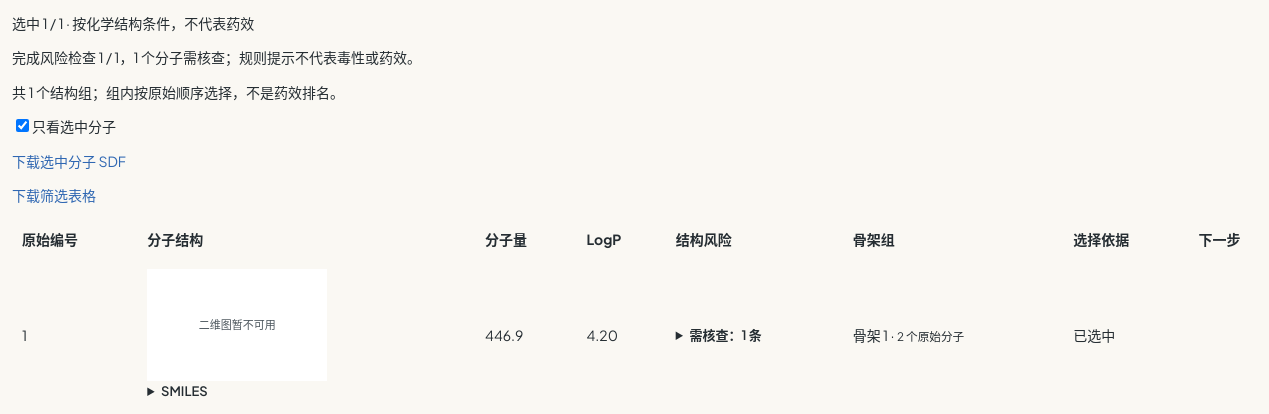
Test case: shows native matched rules and scaffold families without implying safety or activity rank
Expected: the message shows "1 个分子需核查", [12,48,421,66]
Expected: the text "共 1 个结构组；组内按原始顺序选择，不是药效排名。" is shown, [12,83,344,101]
Click the heading "需核查：1 条".
click(726, 335)  # box [689,327,762,343]
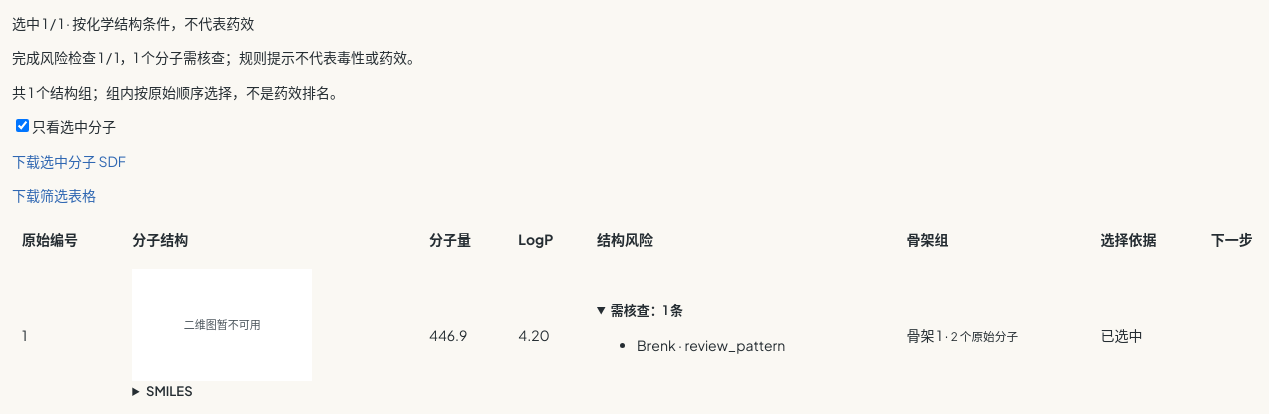
Expected: the text "骨架 1" is shown, [906,326,942,344]
Result: the list item "Brenk · review_pattern" is shown at [637,336,785,354]
